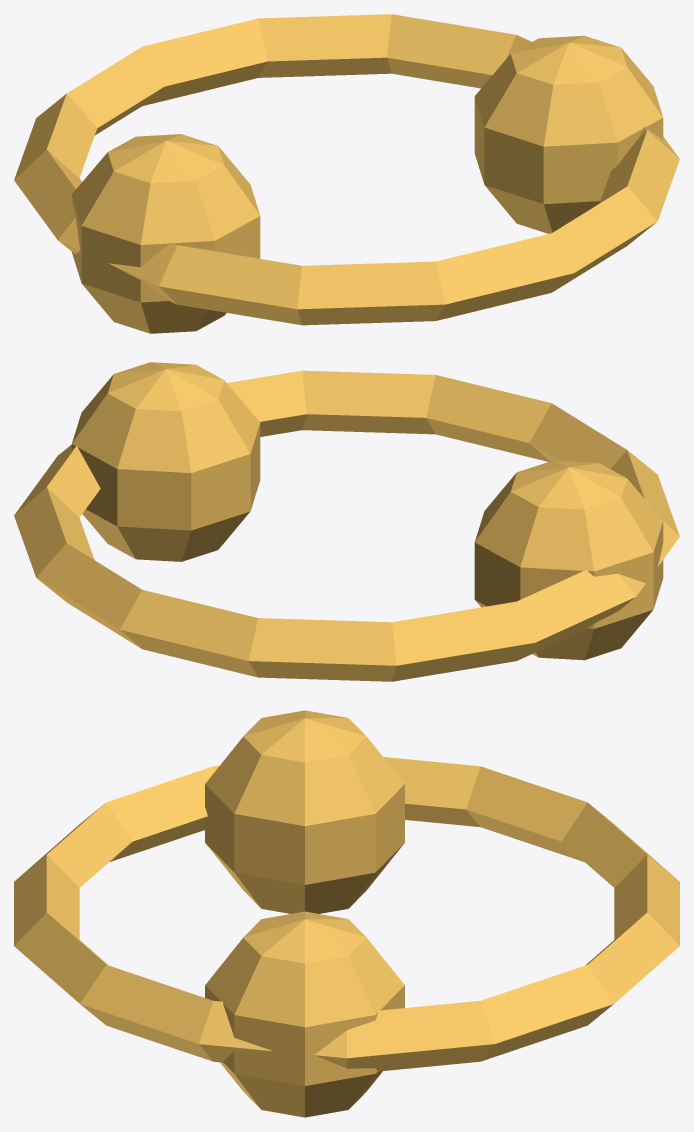
The model's file is sig_penguin.glb.
3 views of the same model, one above another, from view 1: azimuth 30°, elevation 25°; view 2: azimuth 150°, elevation 25°; view 3: azimuth 270°, elevation 25° (orthographic). The views are drawn at different scales.
Visible parts, largest first — view 1: Torus, Sphere.001, Sphere; view 2: Torus, Sphere.001, Sphere; view 3: Torus, Sphere, Sphere.001.
Part boxes in pixels (x1,y1,x2,y2): Torus: (14, 14, 679, 325); Sphere.001: (474, 35, 663, 233); Sphere: (71, 134, 260, 333); Torus: (14, 370, 679, 681); Sphere.001: (71, 362, 260, 561); Sphere: (474, 460, 663, 660); Torus: (14, 757, 679, 1071); Sphere: (205, 710, 404, 913); Sphere.001: (205, 911, 404, 1117).
Size of the model in its own units: 0.488 by 0.15 by 0.4758.
